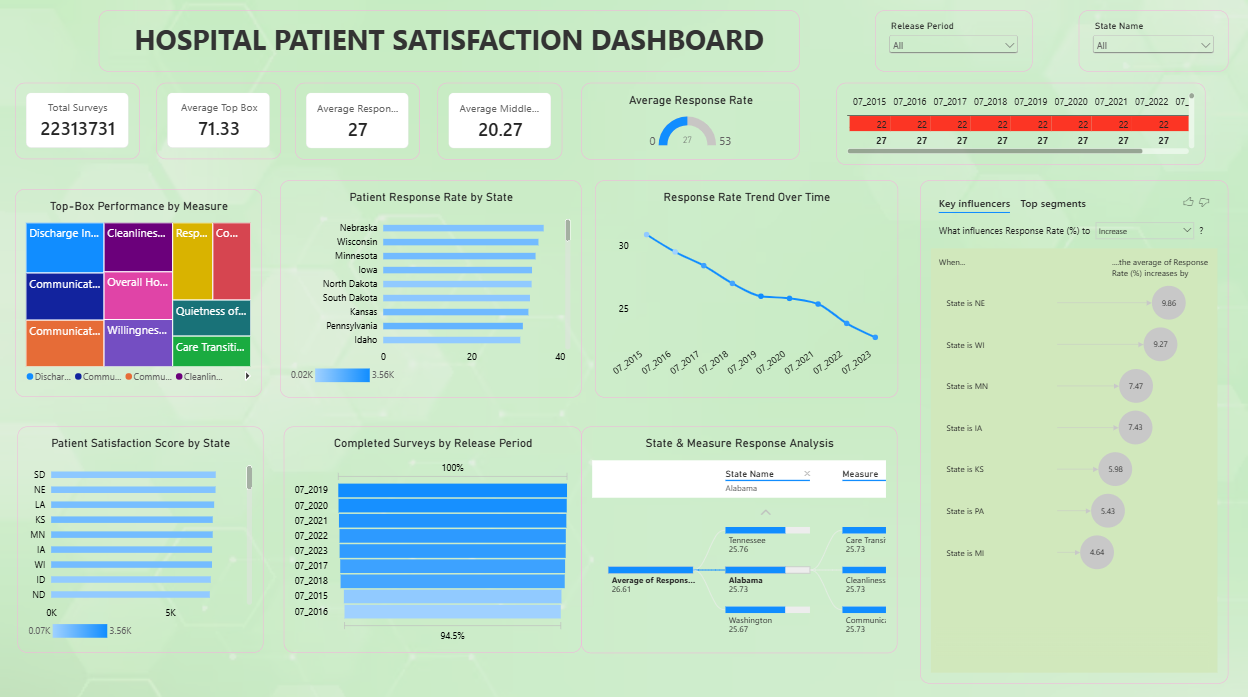

The dashboard page shown, as its layout file describes it:
{"tool":"powerbi","page":{"name":"Page 1","canvas":[1920,1080],"ordinal":0},"visuals":[{"type":"treemap","title":"Top-Box Performance by Measure","fields":{"Group":["measures (2).Measure"],"Values":["Avg(national_results.Top-box Percentage)"]},"box":[24,292,380,320],"z":0},{"type":"cardVisual","fields":{"Data":["data_dictionary.Total Surveys"]},"box":[24,128,192.3,117.3],"z":1000},{"type":"cardVisual","fields":{"Data":["data_dictionary.Average Top Box"]},"box":[240,128,192.3,117.3],"z":2000},{"type":"cardVisual","fields":{"Data":["data_dictionary.Average Response Rate"]},"box":[454,128,192,118],"z":3000},{"type":"cardVisual","fields":{"Data":["data_dictionary.Average Middle Box"]},"box":[674,128,192,118],"z":4000},{"type":"textbox","box":[152,18,1078,94],"z":5000},{"type":"gauge","fields":{"Y":["data_dictionary.Average Response Rate"]},"box":[894,128,336,118],"z":6000},{"type":"pivotTable","fields":{"Columns":["national_results.Release Period"],"Rows":["state.State"],"Values":["data_dictionary.Average Response Rate"]},"box":[1286.7,128.5,568.2,126.7],"z":7000},{"type":"funnel","title":"Completed Surveys by Release Period","fields":{"Category":["responses.Release Period"],"Y":["CountNonNull(responses.Completed Surveys)"]},"box":[436,658,458,348],"z":8000},{"type":"clusteredBarChart","title":"Patient Response Rate by State","fields":{"Category":["state.State Name"],"Y":["Avg(responses.Response Rate (%))"]},"box":[430,278,464,334],"z":9000},{"type":"clusteredBarChart","title":"Patient Satisfaction Score by State","fields":{"Category":["state.State"],"Y":["Sum(state_results.Top-box Percentage)"]},"box":[26,658,378,348],"z":10000},{"type":"slicer","fields":{"Values":["state.State Name"]},"box":[1660,18,230,94],"z":11000},{"type":"slicer","fields":{"Values":["reports.Release Period"]},"box":[1346,18,242,94],"z":12000},{"type":"lineChart","title":"Response Rate Trend Over Time","fields":{"Category":["responses.Release Period"],"Y":["Avg(responses.Response Rate (%))"]},"box":[916,278,466,334],"z":13000},{"type":"decompositionTreeVisual","title":"State & Measure Response Analysis","fields":{"Analyze":["Avg(responses.Response Rate (%))"],"ExplainBy":["state.State Name","measures (2).Measure","reports.Release Period"]},"box":[895.1,658.5,486.1,348.5],"z":14000},{"type":"keyDriversVisual","fields":{"ExplainBy":["responses.State"],"Target":["responses.Response Rate (%)"]},"box":[1416,278,474,774],"z":15000}]}

Visuals, with their boxes in screenshot pixels (x1, y1, x2, y2), scaled from the page's 1920x1080 canvas onto the 1248x697 screenshot:
"Top-Box Performance by Measure" treemap: x1=16, y1=188, x2=263, y2=395
cardVisual - data_dictionary.Total Surveys: x1=16, y1=83, x2=141, y2=158
cardVisual - data_dictionary.Average Top Box: x1=156, y1=83, x2=281, y2=158
cardVisual - data_dictionary.Average Response Rate: x1=295, y1=83, x2=420, y2=159
cardVisual - data_dictionary.Average Middle Box: x1=438, y1=83, x2=563, y2=159
textbox: x1=99, y1=12, x2=800, y2=72
gauge - data_dictionary.Average Response Rate: x1=581, y1=83, x2=800, y2=159
pivotTable - national_results.Release Period x state.State: x1=836, y1=83, x2=1206, y2=165
"Completed Surveys by Release Period" funnel: x1=283, y1=425, x2=581, y2=649
"Patient Response Rate by State" clusteredBarChart: x1=280, y1=179, x2=581, y2=395
"Patient Satisfaction Score by State" clusteredBarChart: x1=17, y1=425, x2=263, y2=649
slicer - state.State Name: x1=1079, y1=12, x2=1228, y2=72
slicer - reports.Release Period: x1=875, y1=12, x2=1032, y2=72
"Response Rate Trend Over Time" lineChart: x1=595, y1=179, x2=898, y2=395
"State & Measure Response Analysis" decompositionTreeVisual: x1=582, y1=425, x2=898, y2=650
keyDriversVisual - responses.State x responses.Response Rate (%): x1=920, y1=179, x2=1228, y2=679
